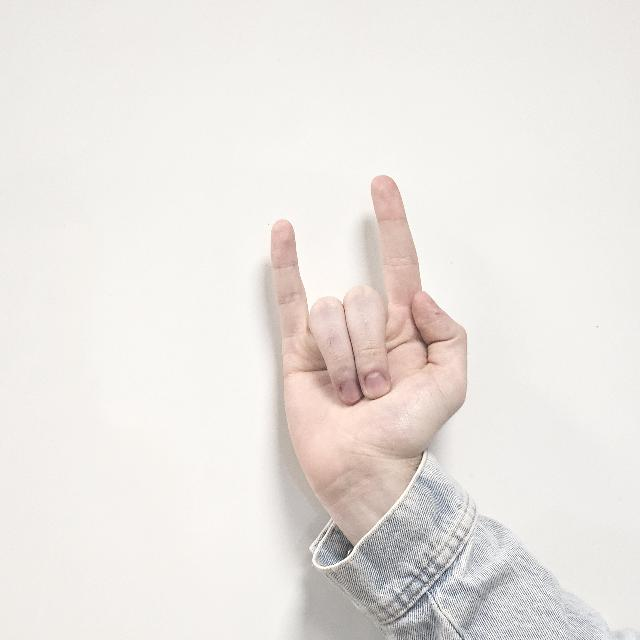L: (262, 171, 468, 483)
